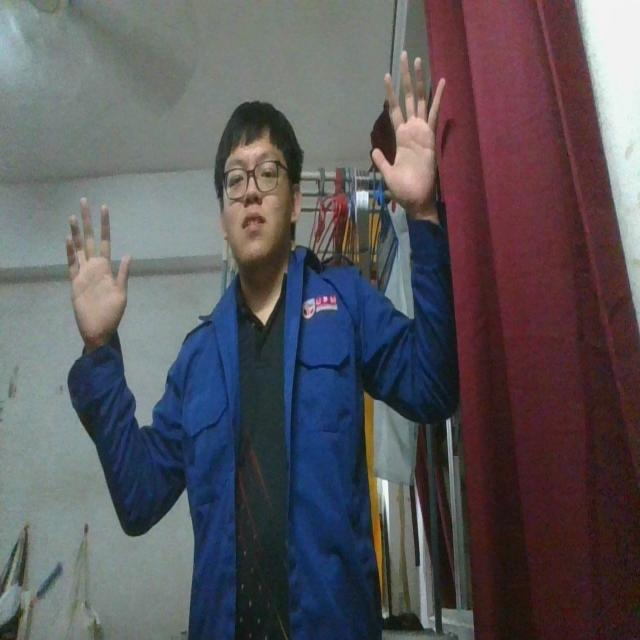person_with_labcoat: (67, 54, 458, 639)
